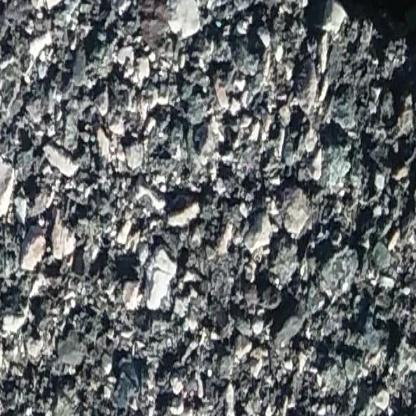Cracks: (291, 0, 416, 100)
